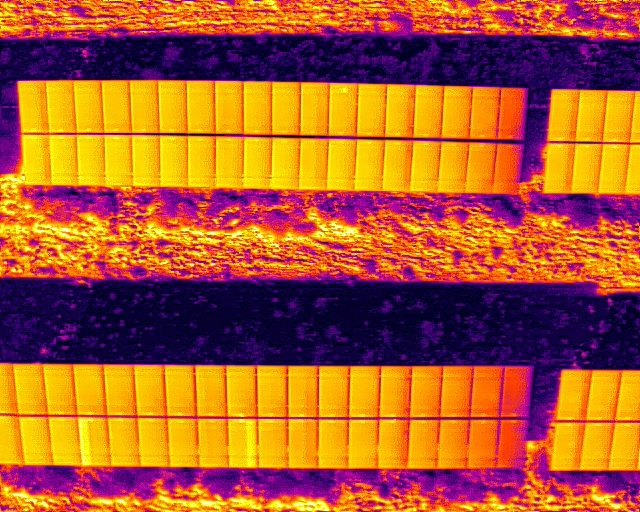photovoltaic_panels: (14, 78, 526, 197), (2, 362, 530, 471), (543, 88, 638, 196), (551, 369, 638, 472)
single_spot: (328, 83, 358, 137)
stripe_spot: (76, 416, 111, 466), (226, 419, 257, 468)
